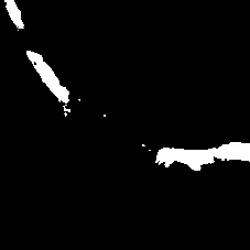crack: (24, 47, 76, 122), (155, 141, 248, 173), (4, 2, 24, 34)
pinhole: (138, 139, 153, 154), (100, 111, 108, 121)
